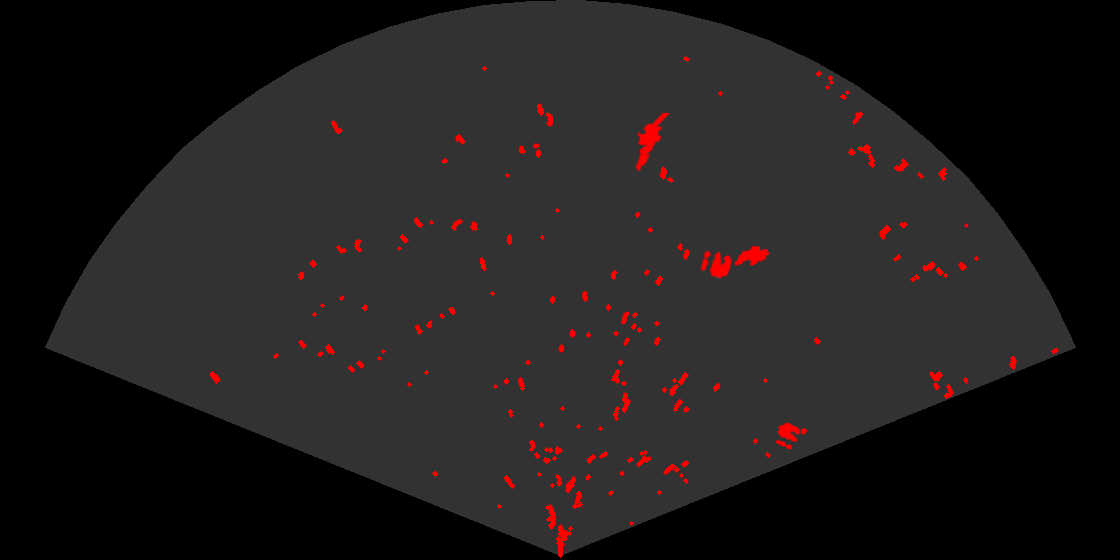AUV: (732, 244, 772, 267)
ball: (699, 249, 734, 280), (774, 421, 803, 451)
frogman: (634, 113, 672, 173)
